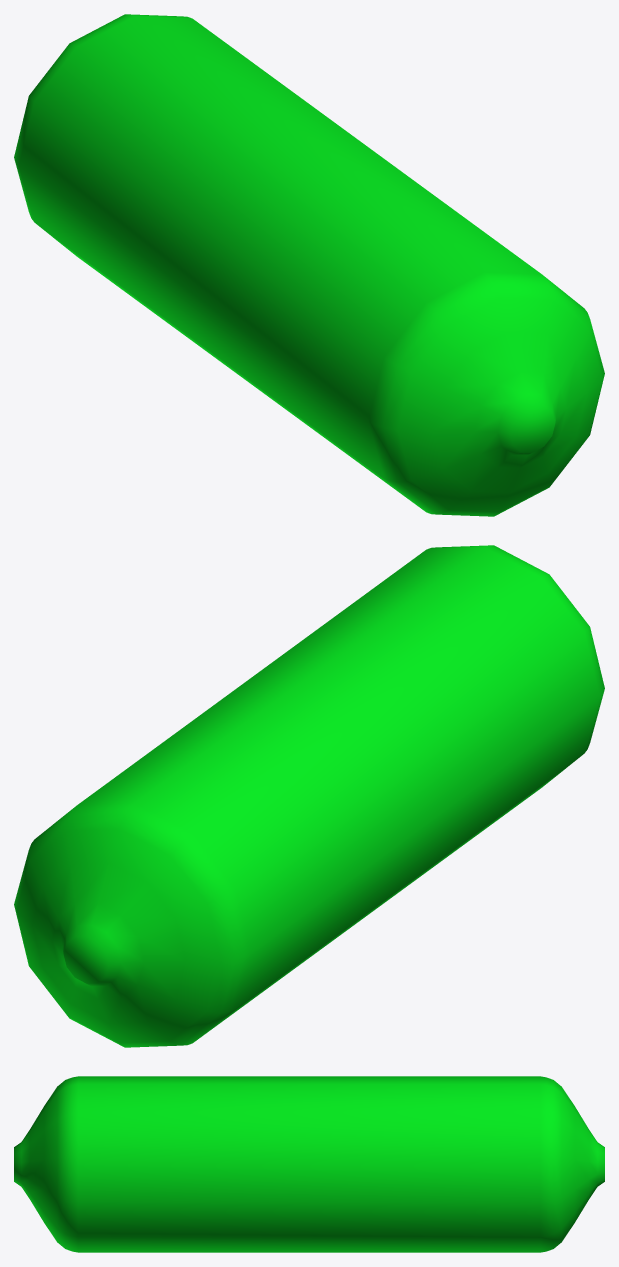
Rendered from rezystor_cylinder_widok.fbx.
3 renders of one model, top to bottom at view 1: azimuth 30°, elevation 25°; view 2: azimuth 150°, elevation 25°; view 3: azimuth 270°, elevation 25°, orthographic. The views are drawn at different scales.
Parts seen in each view (by area): view 1: rezystor_cylinder_widok; view 2: rezystor_cylinder_widok; view 3: rezystor_cylinder_widok.
Part boxes in pixels (box(x1,y1,x2,y2)): rezystor_cylinder_widok: box(14, 14, 604, 516); rezystor_cylinder_widok: box(14, 545, 604, 1047); rezystor_cylinder_widok: box(14, 1076, 604, 1252).
Bounding box in the file's own units: 200 × 200 × 668.
